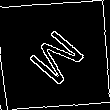M_SE: (21, 21, 89, 89)
